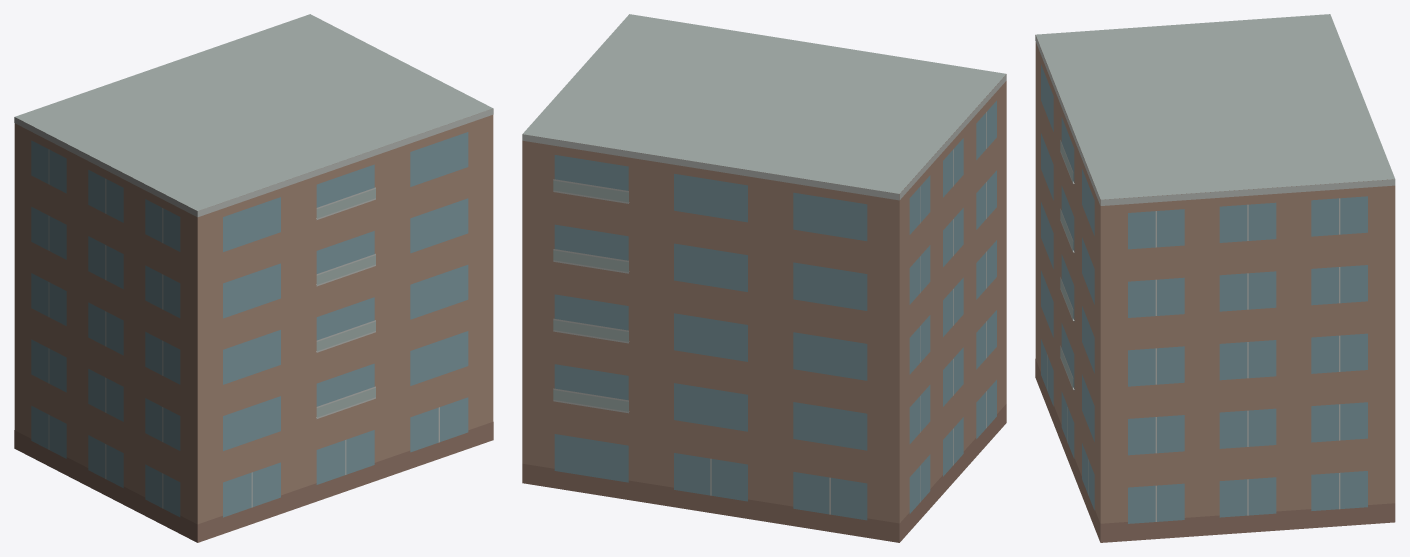
Rendered from survey-upis-32728318.glb.
3 renders of one model, left to right at view 1: azimuth 30°, elevation 25°; view 2: azimuth 150°, elevation 25°; view 3: azimuth 270°, elevation 25°, orthographic. The views are drawn at different scales.
Visible parts, largest first — view 1: survey-upis-32728318.tmp; view 2: survey-upis-32728318.tmp; view 3: survey-upis-32728318.tmp.
Part boxes in pixels (x1,y1,x2,y2): survey-upis-32728318.tmp: (14,14,493,542); survey-upis-32728318.tmp: (522,14,1006,542); survey-upis-32728318.tmp: (1035,14,1395,542).
Bounding box in the file's own units: 15.22 × 13.1 × 12.46.
